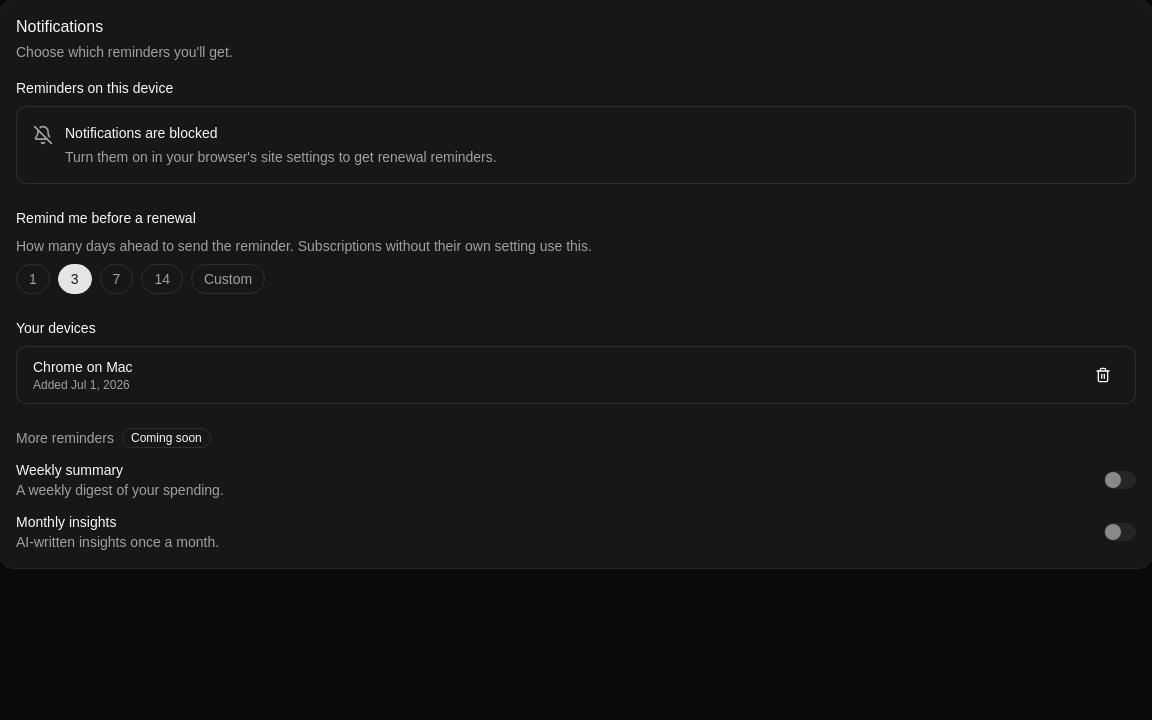
it: NotificationsCard › revokes a device server-side and re-fetches so it disappears
Check: the text "Chrome on Mac" is shown, box x1=33 y1=357 x2=133 y2=377
Click the button named "Remove device". click: (1103, 375)
box: x1=1087 y1=359 x2=1119 y2=391
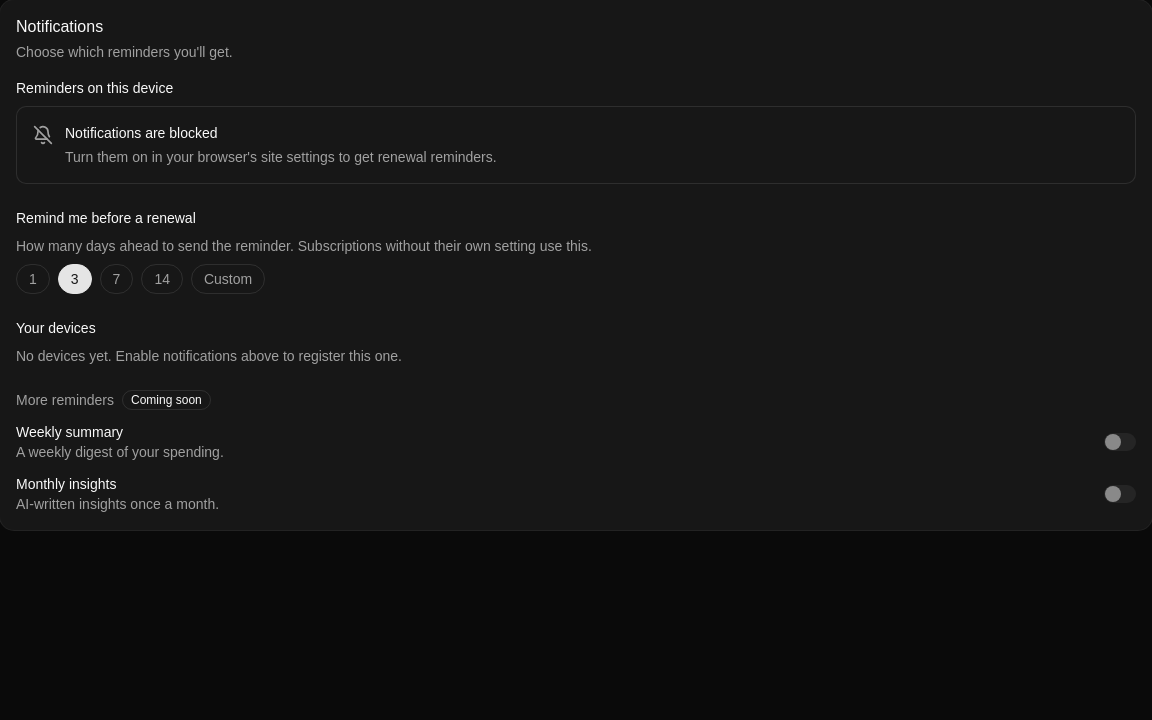
Check: the text "Chrome on Mac" is gone
